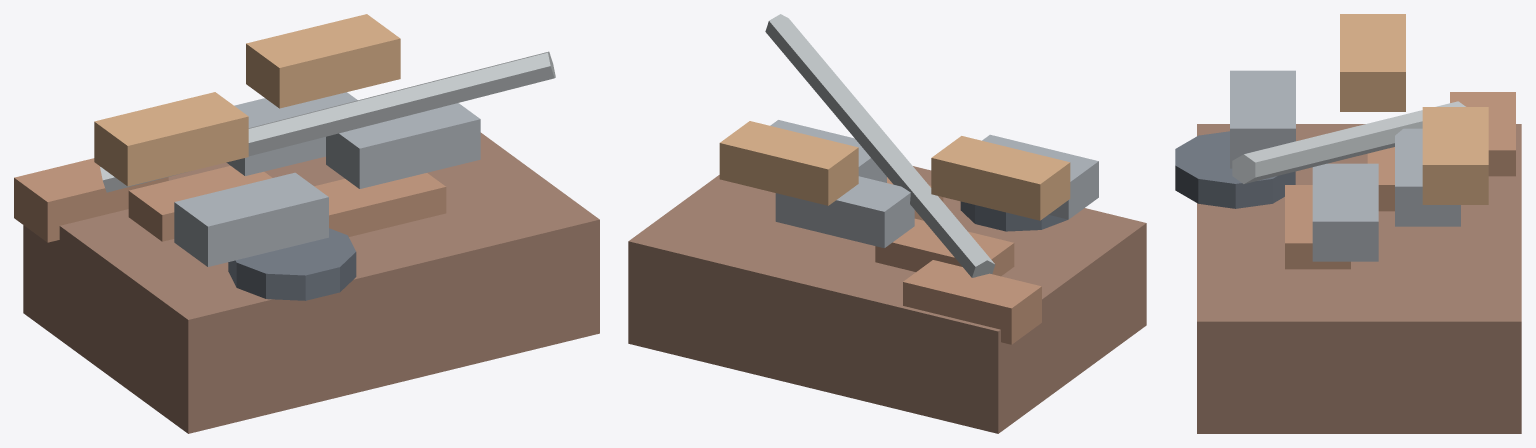
Rendered from pila_chatarra.glb.
3 renders of one model, left to right at view 1: azimuth 30°, elevation 25°; view 2: azimuth 150°, elevation 25°; view 3: azimuth 270°, elevation 25°, orthographic. The views are drawn at different scales.
Parts seen in each view (by area): view 1: pila_chatarra; view 2: pila_chatarra; view 3: pila_chatarra.
Part boxes in pixels (bbox=[...]): pila_chatarra: bbox=[14, 14, 599, 433]; pila_chatarra: bbox=[628, 14, 1146, 433]; pila_chatarra: bbox=[1175, 14, 1521, 433].
Size of the model in its own units: 1.75 by 1.07 by 1.26.
